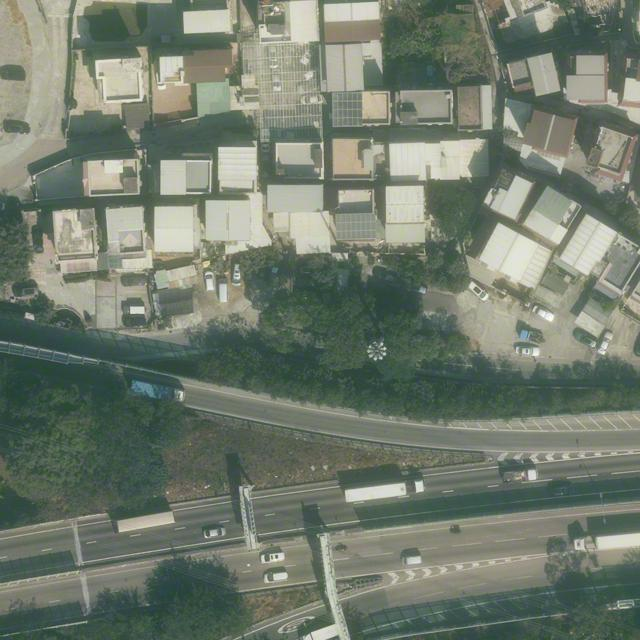panel: (335, 212, 377, 240), (332, 91, 363, 127)
